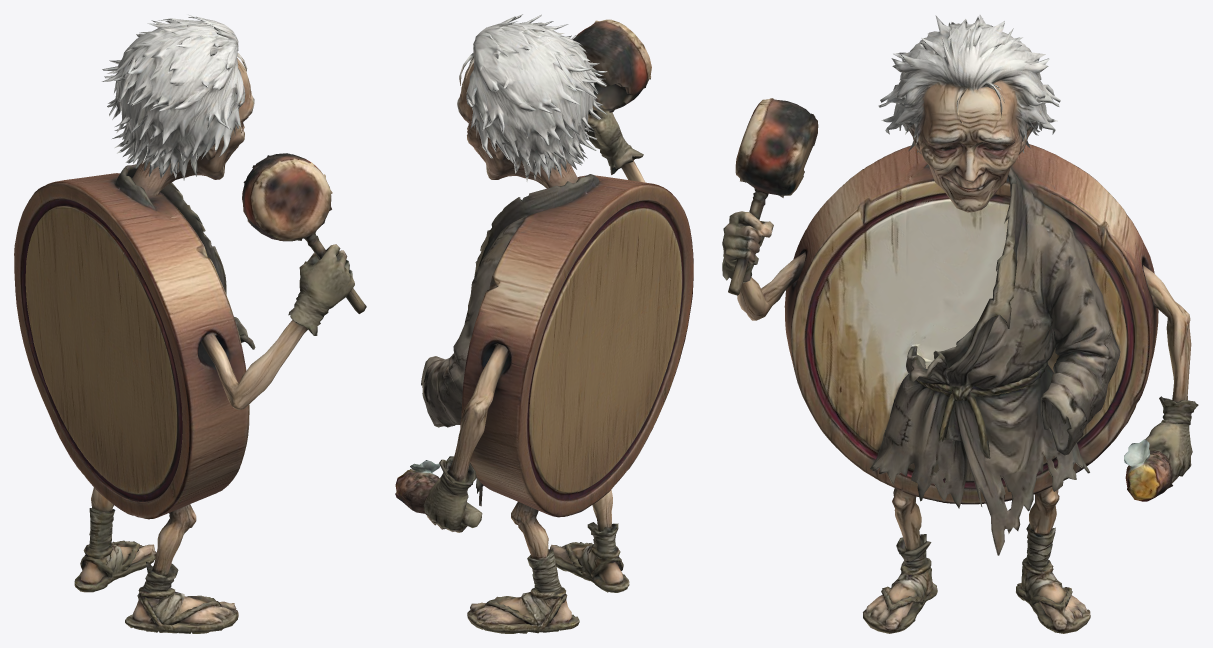
File: p_b1p_jiabanbu_old.glb
The picture shows the model from 3 angles, left to right: view 1: azimuth 30°, elevation 25°; view 2: azimuth 150°, elevation 25°; view 3: azimuth 270°, elevation 25°; orthographic projection. The views are drawn at different scales.
Visible parts, largest first — view 1: tripo_node_20c08c3b-0cd8-40e3-8fba-bdcca1dbaa4d; view 2: tripo_node_20c08c3b-0cd8-40e3-8fba-bdcca1dbaa4d; view 3: tripo_node_20c08c3b-0cd8-40e3-8fba-bdcca1dbaa4d.
Boxes of the visible parts, x1,y1,x2,y2 form: tripo_node_20c08c3b-0cd8-40e3-8fba-bdcca1dbaa4d: (14, 14, 366, 633); tripo_node_20c08c3b-0cd8-40e3-8fba-bdcca1dbaa4d: (395, 14, 693, 633); tripo_node_20c08c3b-0cd8-40e3-8fba-bdcca1dbaa4d: (722, 15, 1198, 633).
Bounding box in the file's own units: 0.2925 × 0.9812 × 0.6942.
1 material, 1 textured.
